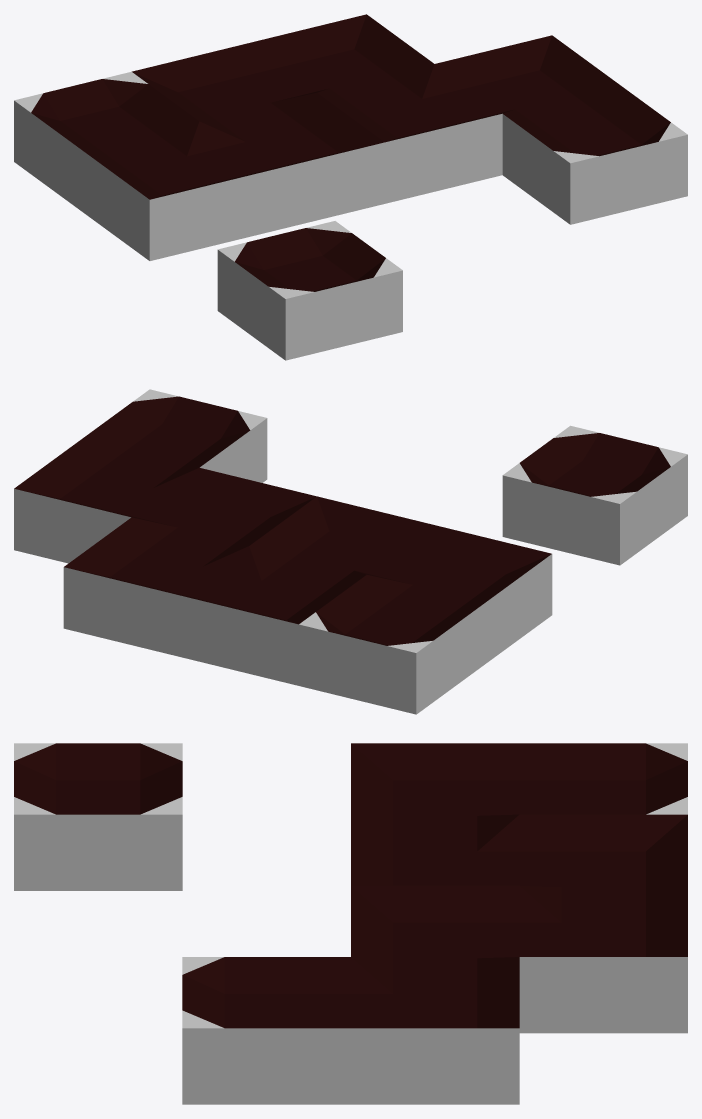
File: 25s_path.obj
The picture shows the model from 3 angles, top to bottom: view 1: azimuth 30°, elevation 25°; view 2: azimuth 150°, elevation 25°; view 3: azimuth 270°, elevation 25°; orthographic projection. The views are drawn at different scales.
Parts seen in each view (by area): view 1: hole.0.0_Cube.200, ending.3.1_ending.398, corner.0.2_corner.989, corner.1.2_corner.990, ending.0.3_ending.397, corner.2.2_corner.992, corner.2.3_corner.993, corner.3.2_corner.994, corner.1.3_corner.991; view 2: hole.0.0_Cube.200, ending.0.3_ending.397, corner.2.3_corner.993, corner.1.3_corner.991, corner.0.2_corner.989, corner.3.2_corner.994, ending.3.1_ending.398, corner.1.2_corner.990, corner.2.2_corner.992; view 3: hole.0.0_Cube.200, ending.3.1_ending.398, corner.2.3_corner.993, corner.3.2_corner.994, corner.2.2_corner.992, corner.1.3_corner.991, corner.0.2_corner.989, ending.0.3_ending.397, corner.1.2_corner.990.
Boxes of the visible parts, bbox=[...] form: hole.0.0_Cube.200: bbox=[217, 221, 402, 360]; ending.3.1_ending.398: bbox=[502, 85, 687, 224]; corner.0.2_corner.989: bbox=[82, 121, 267, 260]; corner.1.2_corner.990: bbox=[199, 93, 384, 232]; ending.0.3_ending.397: bbox=[14, 71, 199, 211]; corner.2.2_corner.992: bbox=[318, 64, 502, 203]; corner.2.3_corner.993: bbox=[249, 14, 433, 100]; corner.3.2_corner.994: bbox=[435, 35, 619, 121]; corner.1.3_corner.991: bbox=[132, 43, 316, 129]; hole.0.0_Cube.200: bbox=[502, 425, 687, 565]; ending.0.3_ending.397: bbox=[299, 575, 484, 714]; corner.2.3_corner.993: bbox=[63, 517, 248, 656]; corner.1.3_corner.991: bbox=[181, 546, 365, 685]; corner.0.2_corner.989: bbox=[367, 525, 552, 664]; corner.3.2_corner.994: bbox=[14, 439, 198, 563]; ending.3.1_ending.398: bbox=[82, 389, 267, 482]; corner.1.2_corner.990: bbox=[249, 496, 434, 582]; corner.2.2_corner.992: bbox=[132, 467, 316, 554]; hole.0.0_Cube.200: bbox=[14, 743, 182, 890]; ending.3.1_ending.398: bbox=[182, 957, 350, 1104]; corner.2.3_corner.993: bbox=[519, 886, 687, 1033]; corner.3.2_corner.994: bbox=[351, 957, 519, 1104]; corner.2.2_corner.992: bbox=[351, 885, 519, 975]; corner.1.3_corner.991: bbox=[519, 814, 687, 904]; corner.0.2_corner.989: bbox=[351, 743, 519, 833]; ending.0.3_ending.397: bbox=[519, 743, 687, 814]; corner.1.2_corner.990: bbox=[351, 814, 519, 885].
Bounding box in the file's own units: 8 × 1 × 8.
